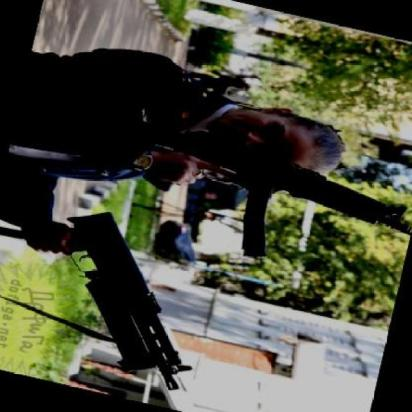Gun: (138, 114, 404, 258), (54, 207, 193, 382)
